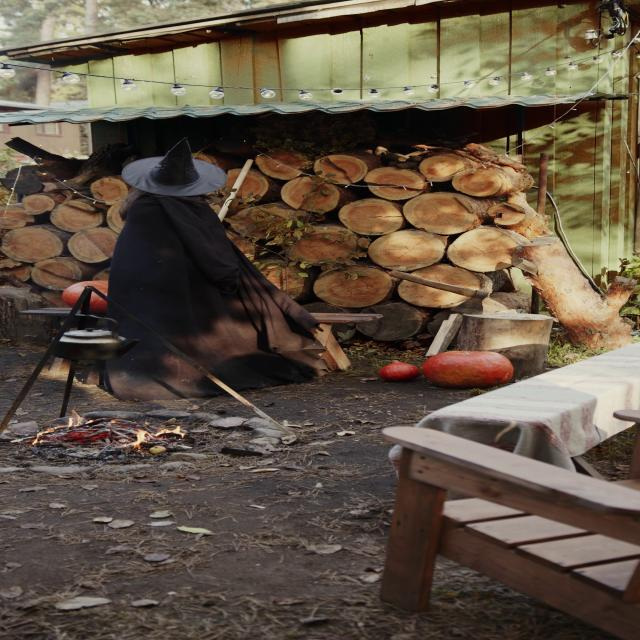Fire: (56, 410, 188, 449)
